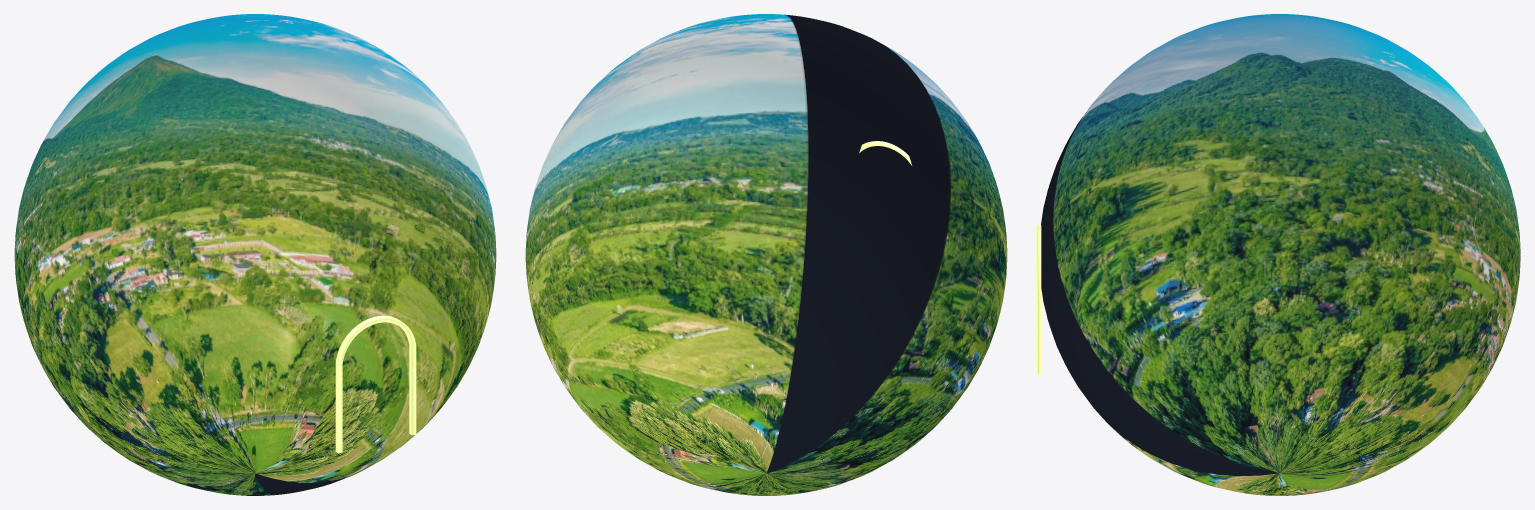
Rendered from casadelrio-portal.glb.
3 views of the same model, side by side, from view 1: azimuth 30°, elevation 25°; view 2: azimuth 150°, elevation 25°; view 3: azimuth 270°, elevation 25° (orthographic).
Visible parts, largest first — view 1: Portal; view 2: Portal; view 3: Portal.
Part boxes in pixels (left/top/right/bottom): Portal: left=14, top=14, right=496, bottom=495; Portal: left=525, top=14, right=1007, bottom=495; Portal: left=1036, top=14, right=1520, bottom=495.
Size of the model in its own units: 7 by 7 by 7.04.
2 materials, 1 textured.
